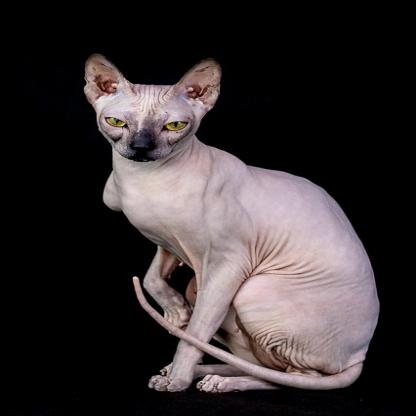cat: (83, 55, 382, 390)
